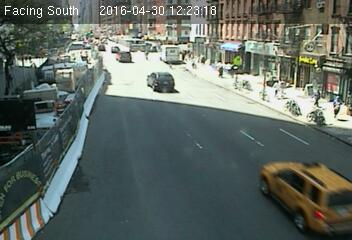neg: (303, 189, 323, 215), (282, 171, 297, 192), (195, 25, 207, 41), (158, 43, 169, 57)
pos: (329, 94, 348, 120), (310, 86, 329, 111)
